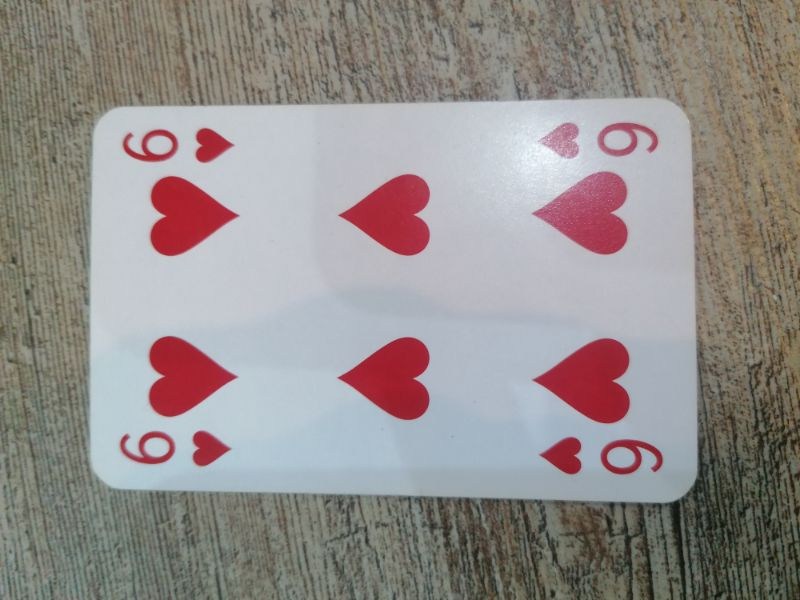6h: (536, 435, 666, 480), (535, 119, 663, 163), (117, 427, 238, 472), (120, 122, 239, 166)
